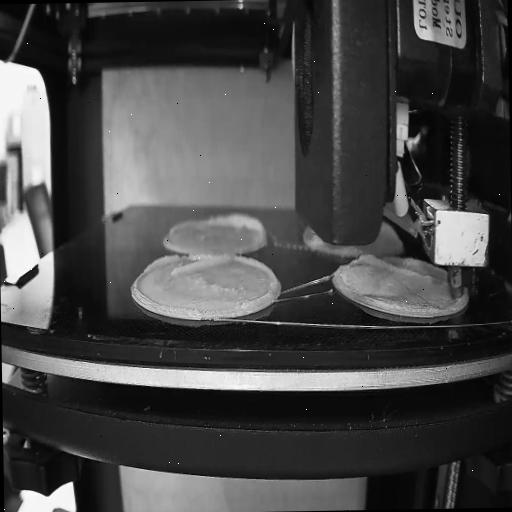over_extrusion: (142, 251, 232, 279), (233, 252, 279, 306), (354, 252, 432, 282), (207, 212, 268, 244)
